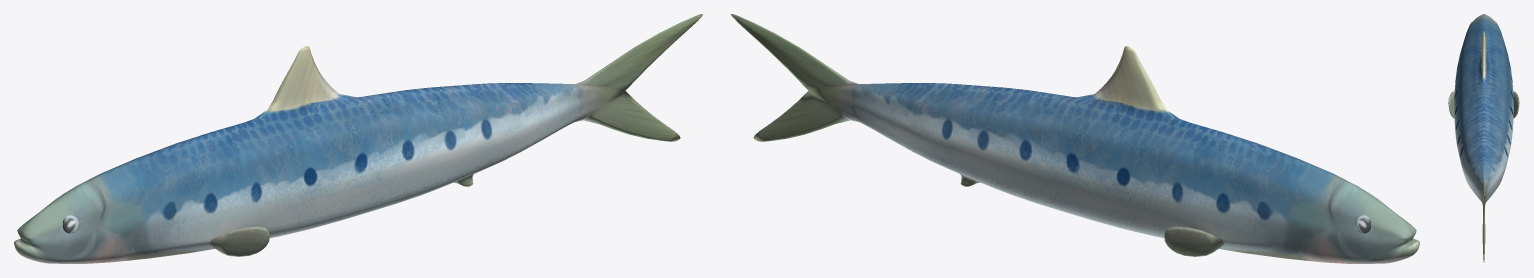
The model's file is iwashi_Many.fbx.
3 renders of one model, left to right at view 1: azimuth 30°, elevation 25°; view 2: azimuth 150°, elevation 25°; view 3: azimuth 270°, elevation 25°, orthographic. The views are drawn at different scales.
Parts seen in each view (by area): view 1: iwashi; view 2: iwashi; view 3: iwashi.
Boxes of the visible parts, x1=… form: iwashi: x1=14, y1=14, x2=702, y2=263; iwashi: x1=731, y1=14, x2=1419, y2=263; iwashi: x1=1448, y1=14, x2=1519, y2=262.
Bounding box in the file's own units: 15.16 × 107 × 27.55.
